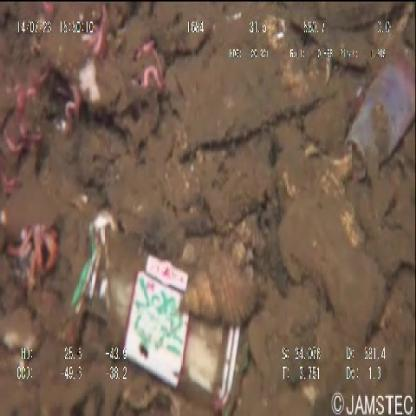Rác: (56, 208, 250, 414), (346, 54, 415, 183)
